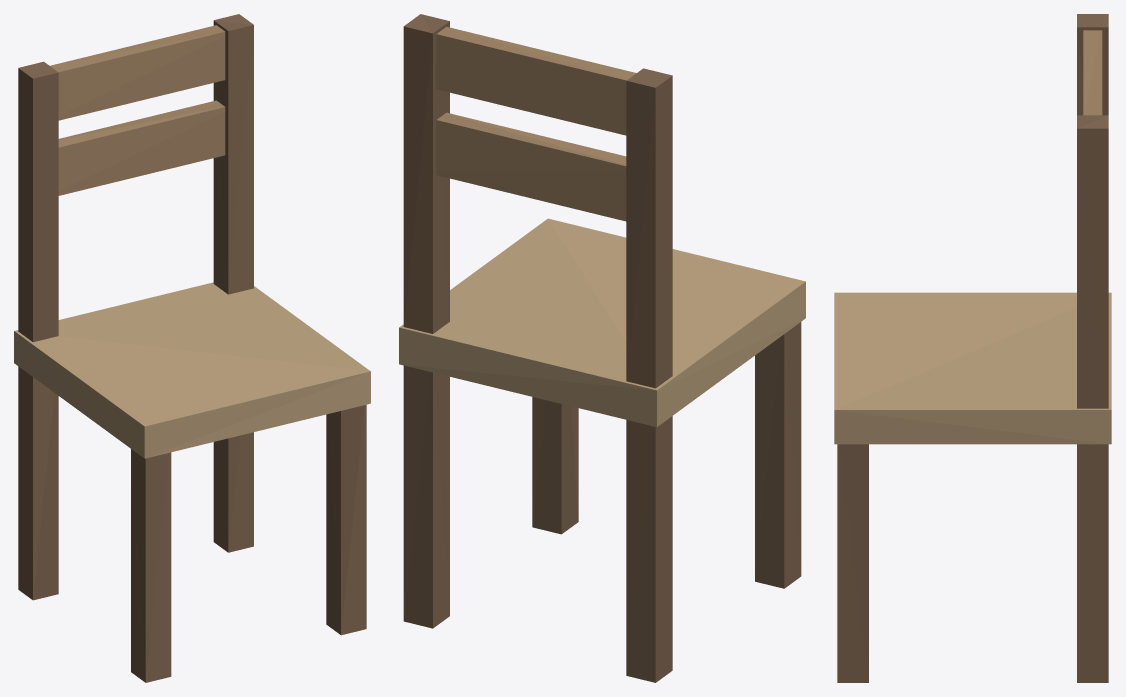
Rendered from chair.glb.
3 views of the same model, side by side, from view 1: azimuth 30°, elevation 25°; view 2: azimuth 150°, elevation 25°; view 3: azimuth 270°, elevation 25° (orthographic). The views are drawn at different scales.
Visible parts, largest first — view 1: chair; view 2: chair; view 3: chair.
Boxes of the visible parts, bbox=[...] form: chair: bbox=[14, 14, 370, 682]; chair: bbox=[399, 14, 805, 682]; chair: bbox=[834, 14, 1111, 682].
Size of the model in its own units: 0.44 by 0.97 by 0.44.
